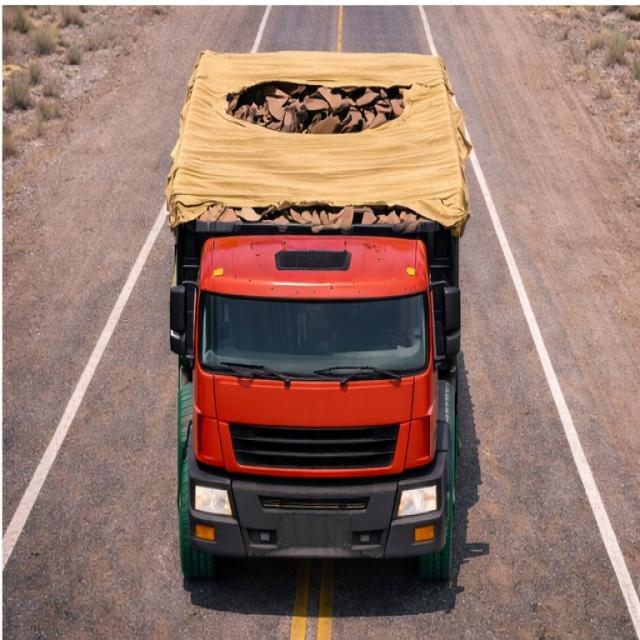trailer: (168, 44, 477, 255)
truck: (159, 19, 484, 578)
